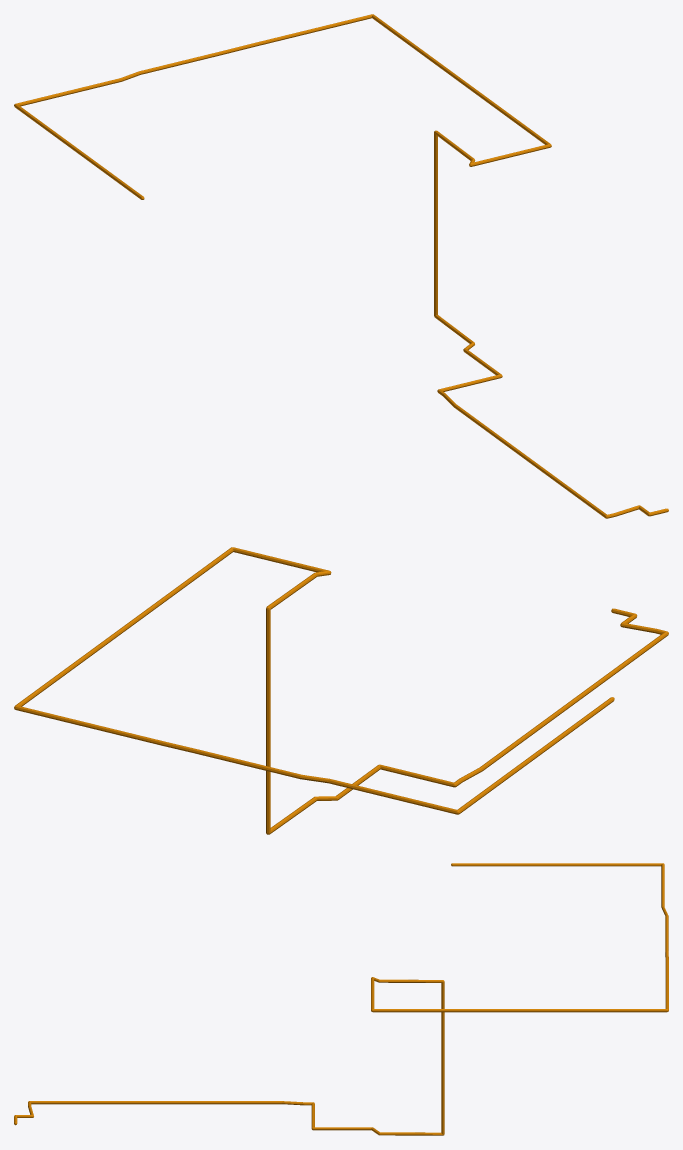
3 renders of one model, top to bottom at view 1: azimuth 30°, elevation 25°; view 2: azimuth 150°, elevation 25°; view 3: azimuth 270°, elevation 25°, orthographic. The views are drawn at different scales.
Bounding box in the file's own units: 2068 × 1020 × 3889.
